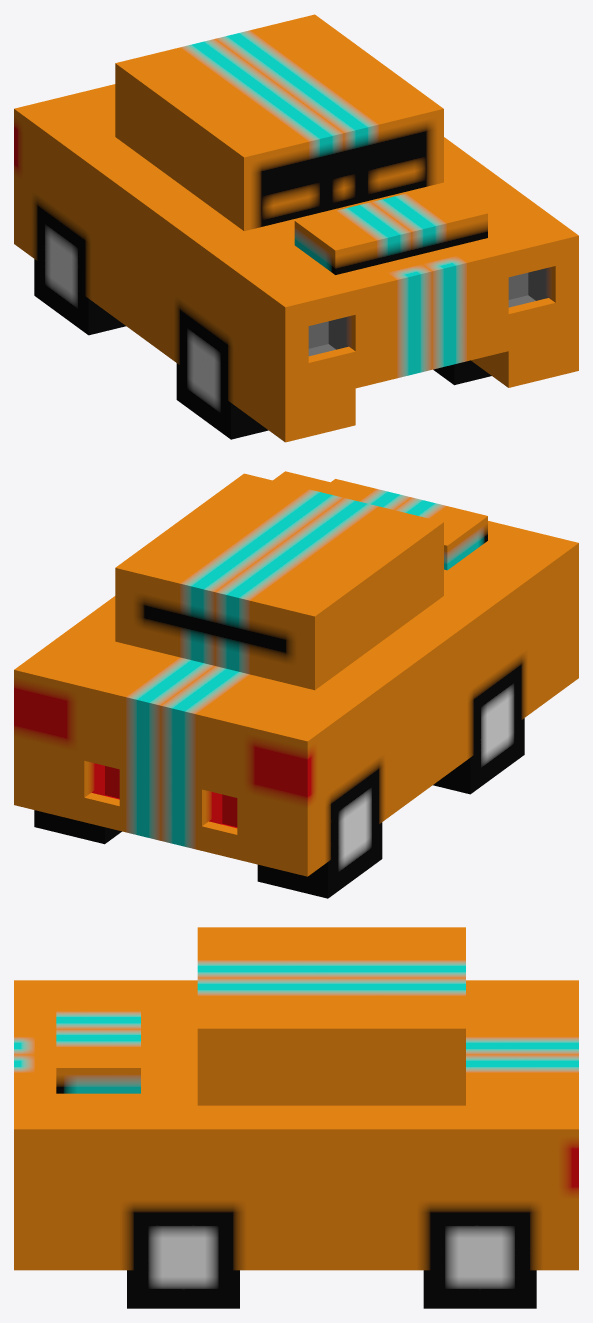
The model's file is Car_3.fbx.
3 views of the same model, one above another, from view 1: azimuth 30°, elevation 25°; view 2: azimuth 150°, elevation 25°; view 3: azimuth 270°, elevation 25° (orthographic). The views are drawn at different scales.
Parts seen in each view (by area): view 1: Car_3; view 2: Car_3; view 3: Car_3.
Boxes of the visible parts, bbox=[...] form: Car_3: bbox=[14, 14, 578, 442]; Car_3: bbox=[14, 471, 578, 898]; Car_3: bbox=[14, 927, 578, 1308].
Size of the model in its own units: 25 by 20 by 40.
Materials: 1 (1 with a texture image).
